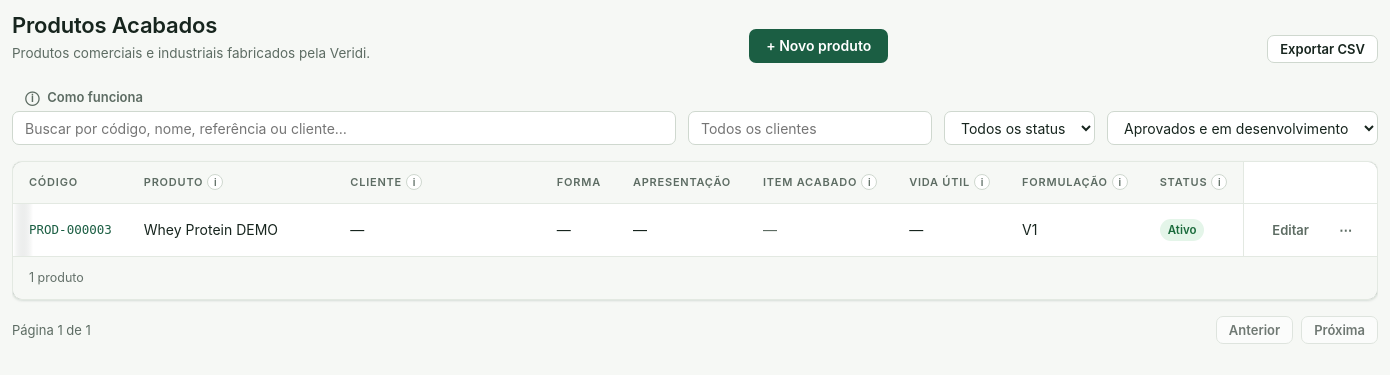
Test case: Acesso ao CMV pela lista de produtos › a ação existe sem alargar a tabela
The width and height of the screenshot is (1390, 375).
Expected: the text "PROD-000003" is shown, top-left (13, 204), bottom-right (128, 256)
Expected: the heading "Produtos Acabados" is shown, top-left (12, 12), bottom-right (217, 38)
Click the button named "Mais ações de PROD-000003": click(1346, 230) top-left (1330, 216), bottom-right (1361, 244)
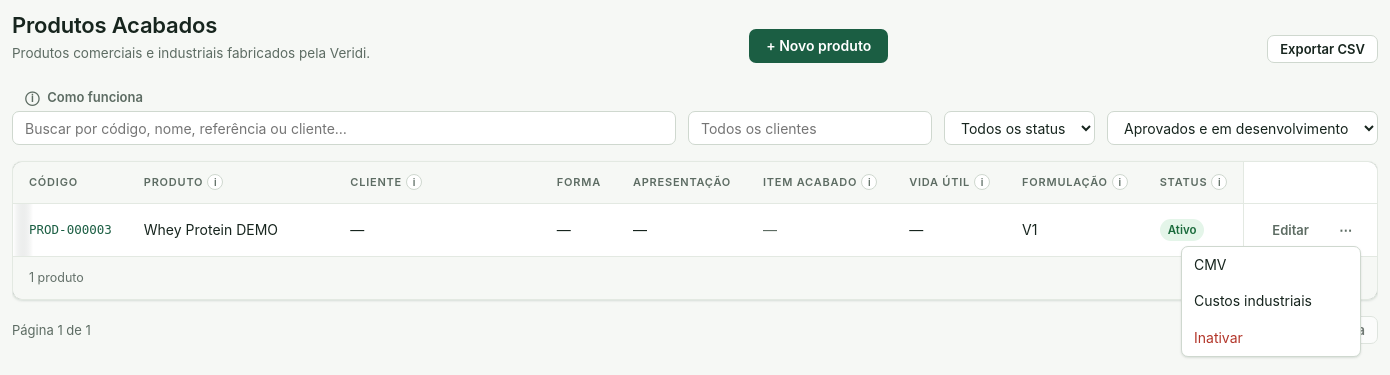
Result: the menu item "CMV" is shown at top-left (1182, 247), bottom-right (1360, 283)
